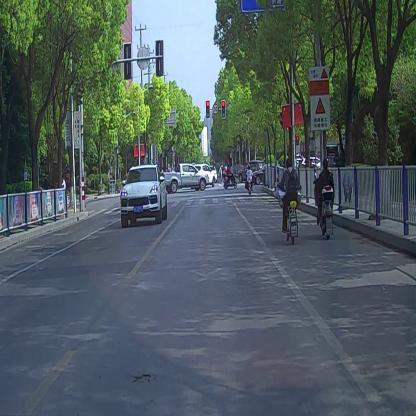Red Light: (204, 99, 210, 118), (221, 98, 226, 119)
